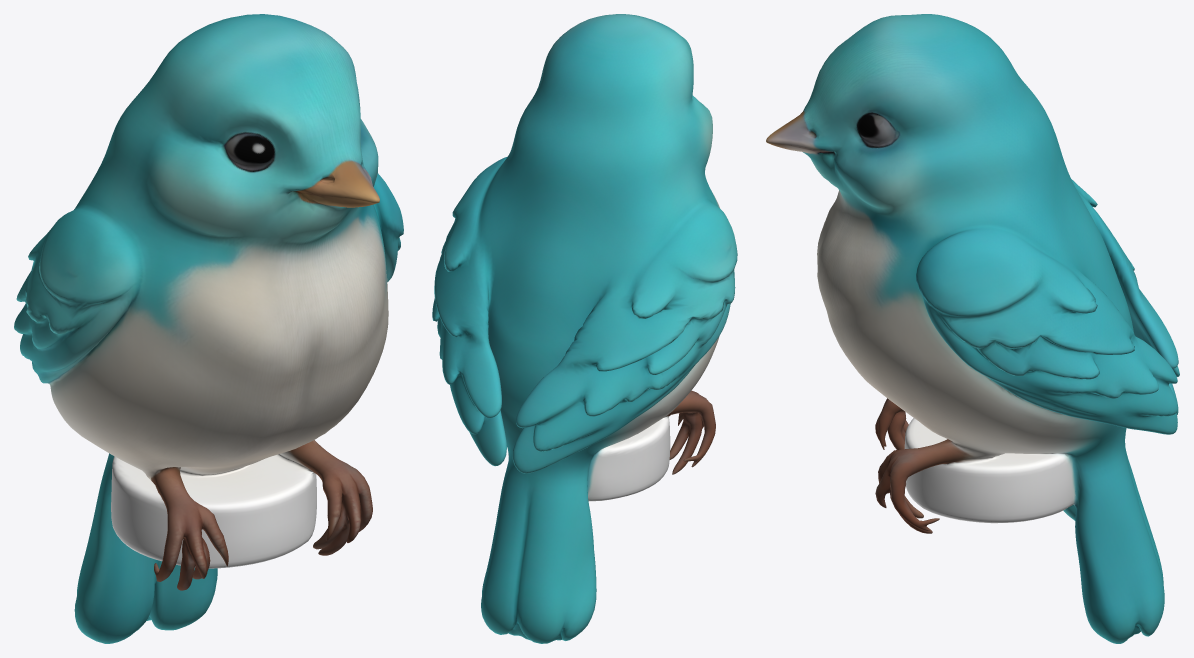
File: bird-perch-source.glb
3 views of the same model, side by side, from view 1: azimuth 30°, elevation 25°; view 2: azimuth 150°, elevation 25°; view 3: azimuth 270°, elevation 25° (orthographic). The views are drawn at different scales.
Visible parts, largest first — view 1: model; view 2: model; view 3: model.
Boxes of the visible parts, bbox=[...] form: model: bbox=[14, 14, 403, 643]; model: bbox=[432, 14, 737, 643]; model: bbox=[766, 14, 1179, 643].
Bounding box in the file's own units: 1 × 1.9 × 1.18.
Materials: 1 (1 with a texture image).
